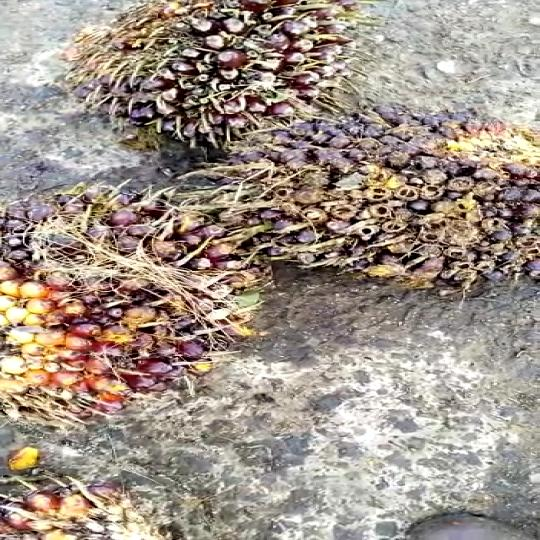kurang masak: (0, 176, 276, 417), (216, 110, 540, 309), (68, 0, 364, 162)
